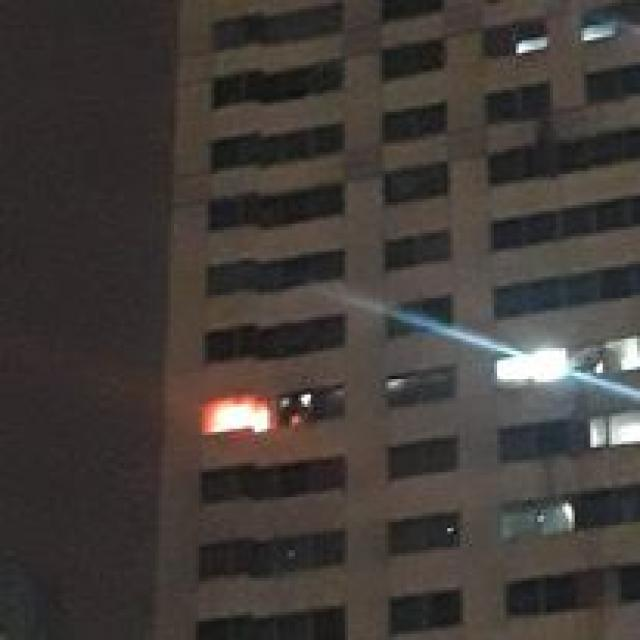Fire: (204, 398, 282, 438)
